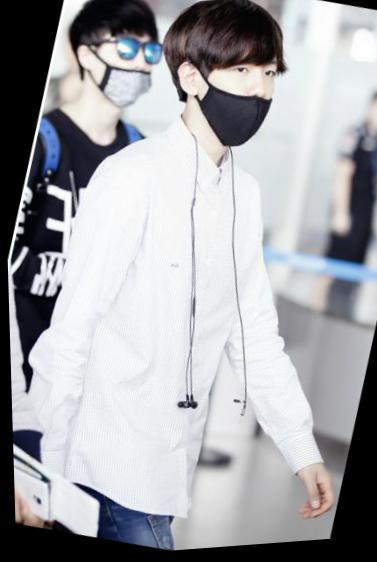WRONG: (187, 39, 285, 160), (71, 25, 164, 117)
